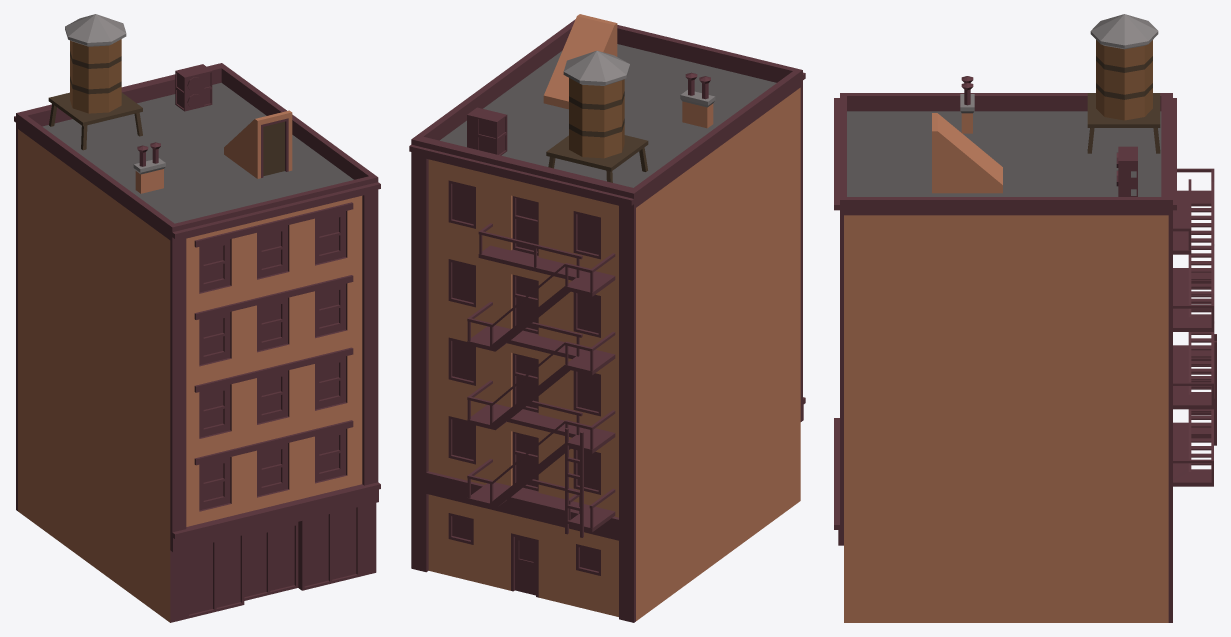
The model's file is building-block-4floor-short.fbx.
3 renders of one model, left to right at view 1: azimuth 30°, elevation 25°; view 2: azimuth 150°, elevation 25°; view 3: azimuth 270°, elevation 25°, orthographic. The views are drawn at different scales.
Visible parts, largest first — view 1: building-block-4floor-short; view 2: building-block-4floor-short; view 3: building-block-4floor-short.
Boxes of the visible parts, x1,y1,x2,y2 form: building-block-4floor-short: (14, 14, 380, 622); building-block-4floor-short: (409, 14, 805, 622); building-block-4floor-short: (834, 14, 1216, 622).
Size of the model in its own units: 8.9 by 20.61 by 13.45.
